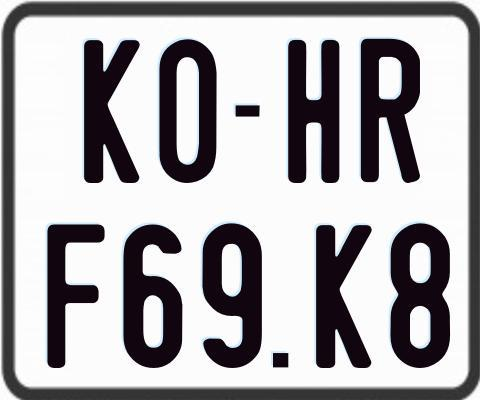0: (157, 36, 215, 181)
6: (120, 221, 183, 368)
8: (389, 221, 452, 370)
9: (199, 222, 262, 370)
F: (46, 222, 108, 371)
H: (286, 39, 340, 186)
K: (82, 40, 138, 184), (315, 223, 371, 366)
R: (361, 38, 424, 182)
